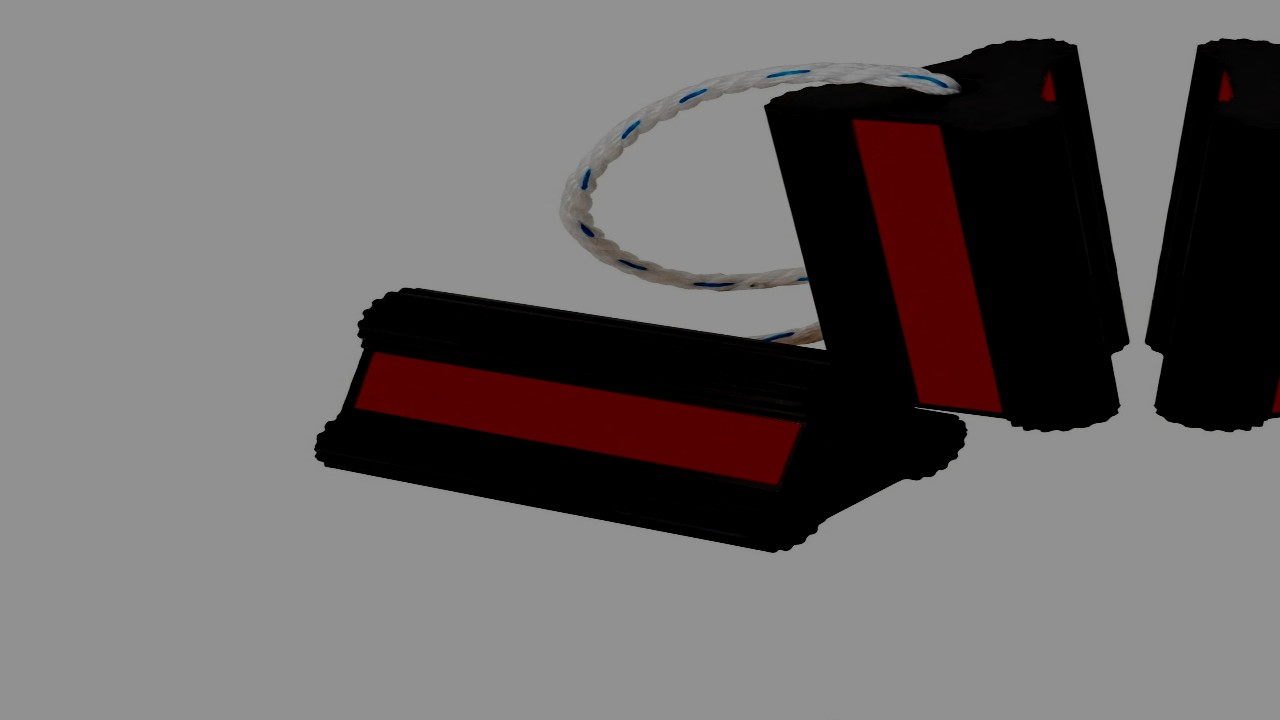chock: (271, 212, 991, 614), (749, 24, 1137, 461), (1138, 24, 1280, 461)
